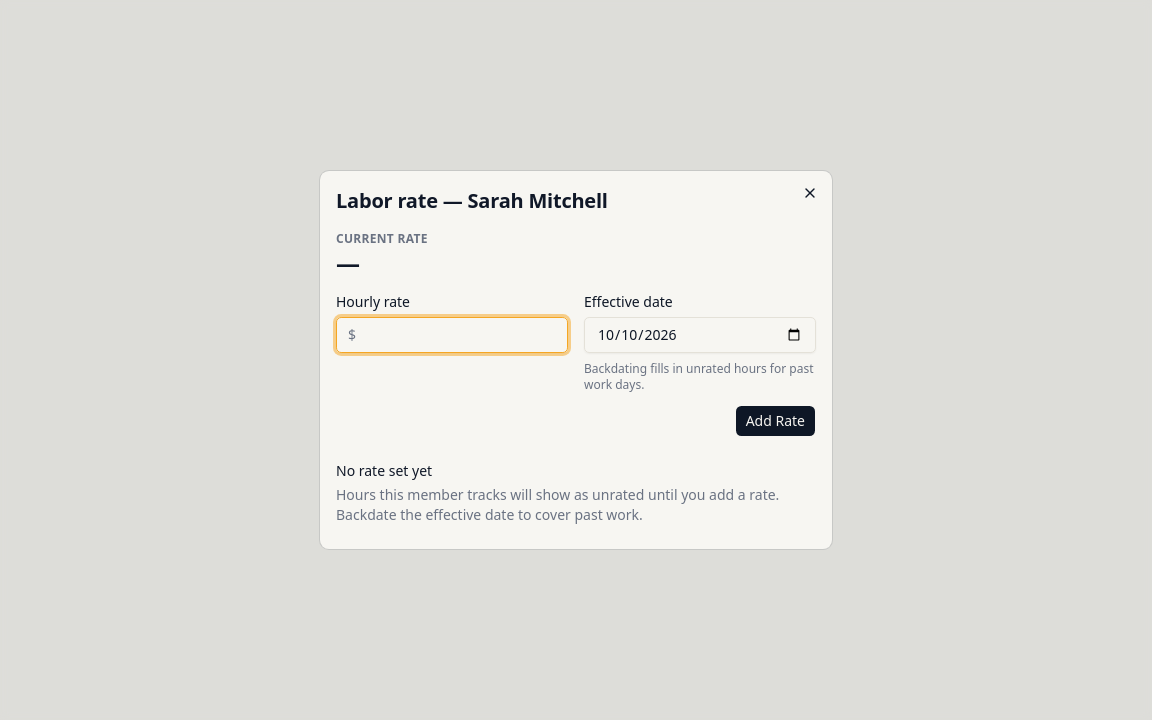
Test: RateHistoryDialog › blocks submission with an empty amount
This screenshot has width=1152, height=720.
Step 1. Click the button "Add Rate" → [775, 421], box [735,405,816,437]
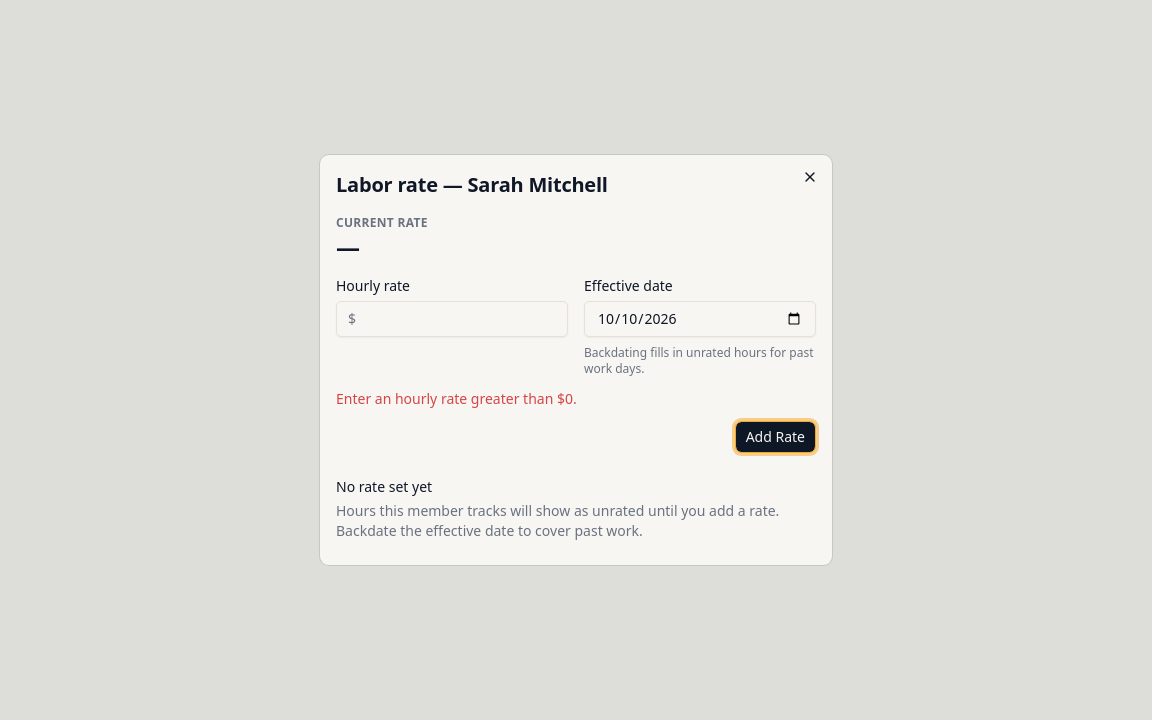
Expected: the text "Enter an hourly rate greater than $0." is shown, [336,389,577,408]
